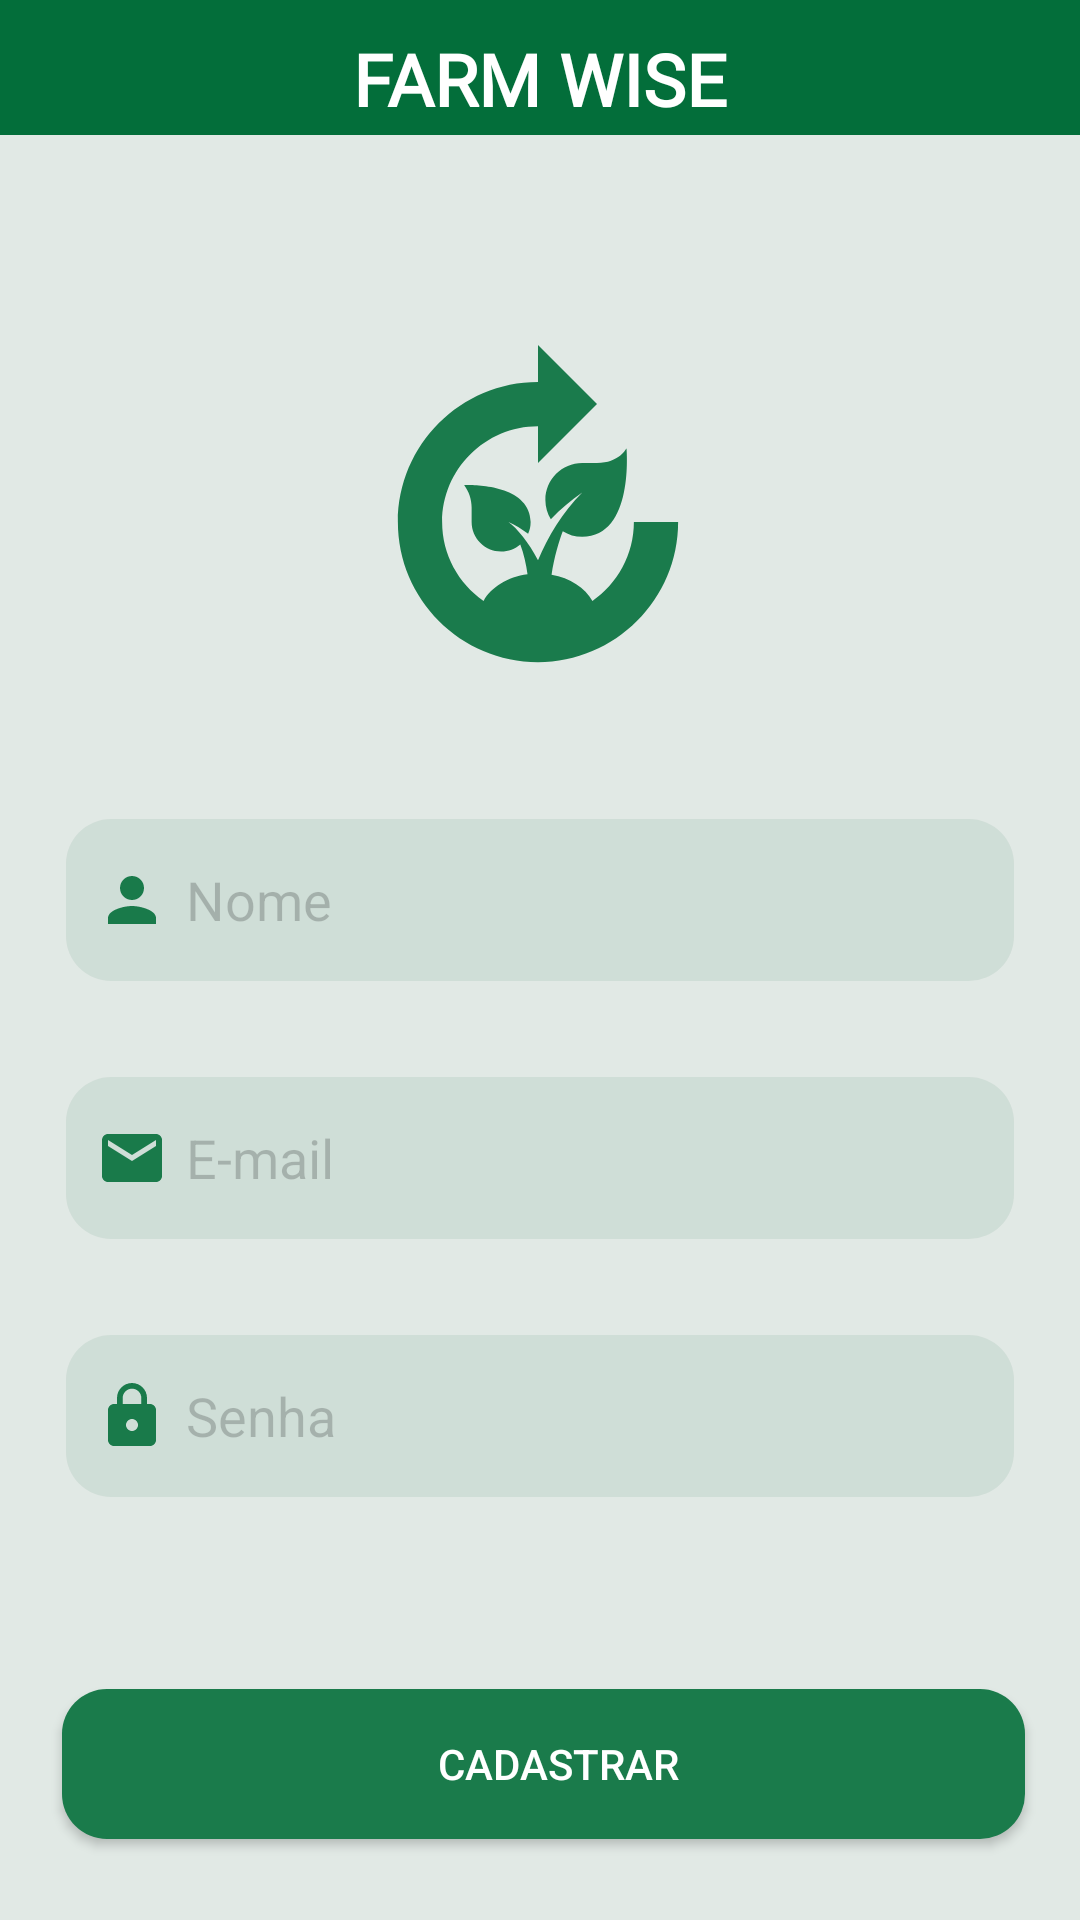

Icons on this 1080×1920 Android screen, each with its box as bbox=[x1, y1, x2, y2]:
compost: bbox=[397, 345, 678, 663]
